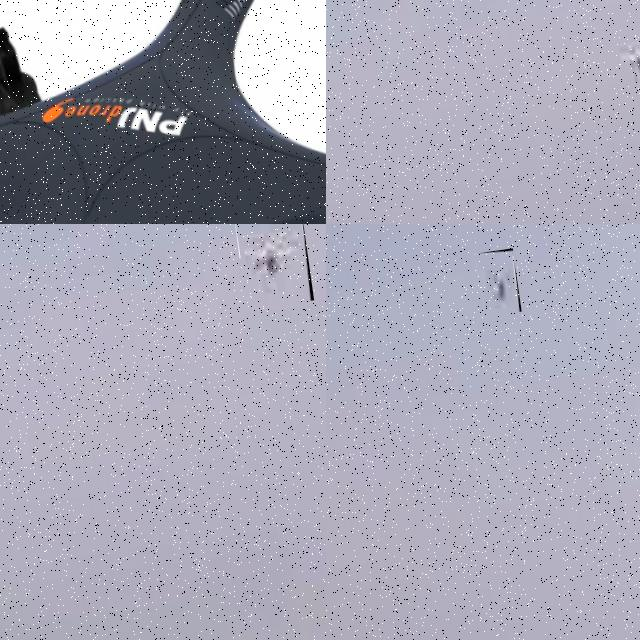drone: (0, 0, 326, 224), (233, 224, 314, 309), (474, 248, 522, 317)
